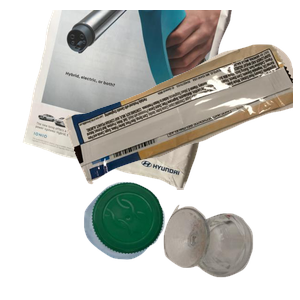glass: (161, 202, 300, 300)
paper: (20, 10, 244, 190)
plastic: (81, 179, 239, 300)
trash: (60, 42, 300, 219)
